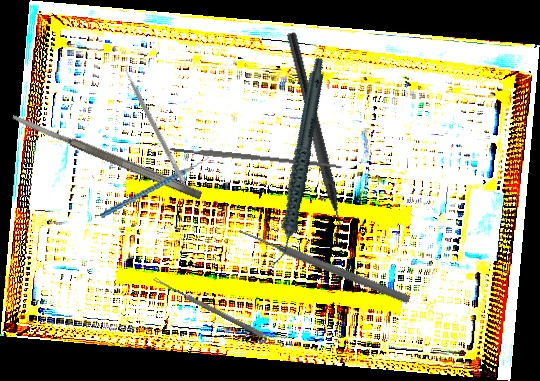Chopper: (272, 31, 352, 247), (92, 147, 221, 219)
Handpiece: (230, 55, 367, 270)
Pusher: (235, 224, 412, 306)
Scalpel Handle: (168, 144, 343, 171)
Spatula Surgical: (10, 110, 204, 202), (119, 61, 191, 184)
Surgical Spoon: (152, 276, 265, 338)
